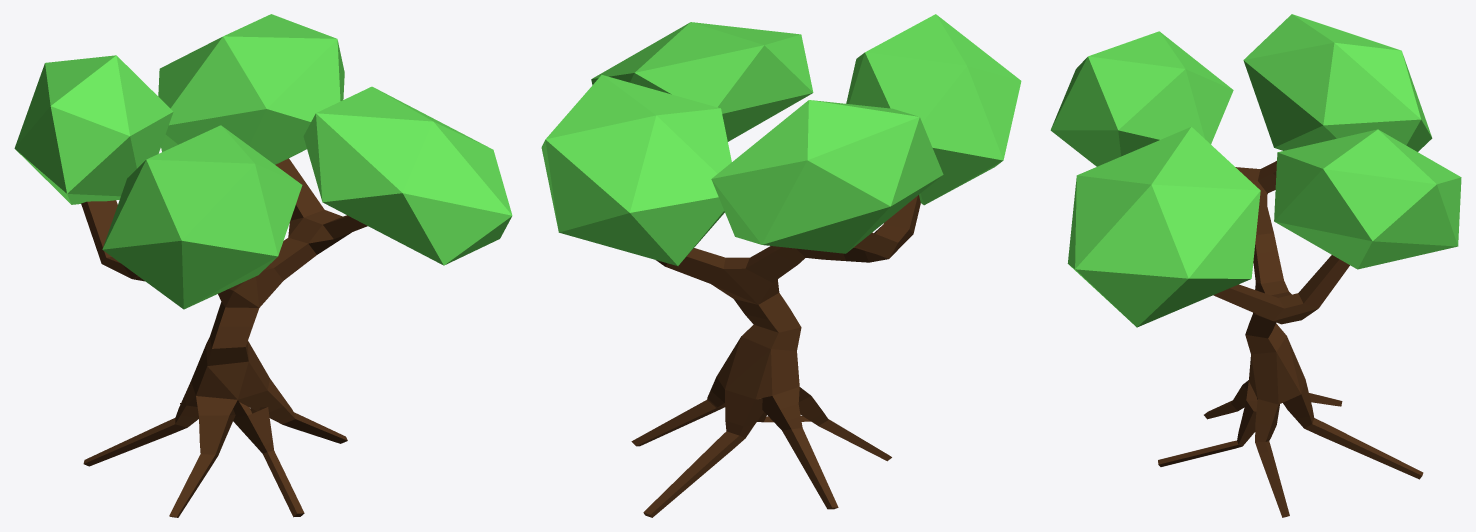
The model's file is mangrove_level0.glb.
The picture shows the model from 3 angles, left to right: view 1: azimuth 30°, elevation 25°; view 2: azimuth 150°, elevation 25°; view 3: azimuth 270°, elevation 25°; orthographic projection. The views are drawn at different scales.
Visible parts, largest first — view 1: Icosphere; view 2: Icosphere; view 3: Icosphere.
Part boxes in pixels (x1,y1,x2,y2): Icosphere: [14, 14, 512, 517]; Icosphere: [541, 14, 1021, 517]; Icosphere: [1050, 14, 1461, 517].
Bounding box in the file's own units: 6.85 × 6.77 × 6.54.
